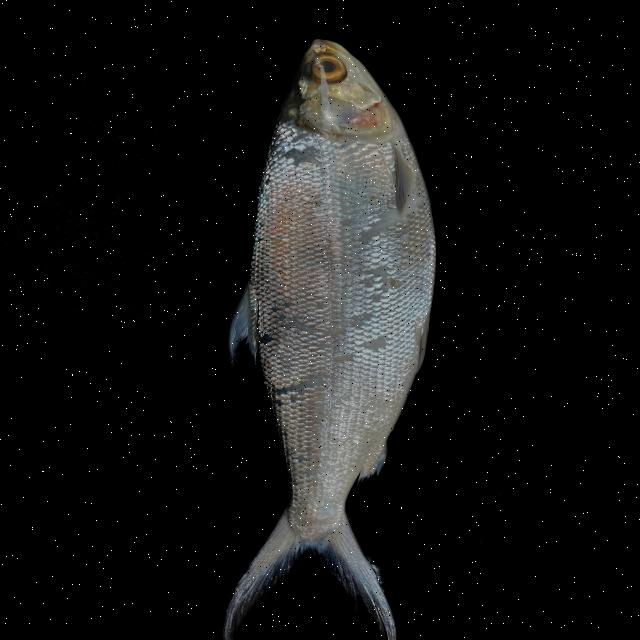1045 g: (220, 38, 435, 640)
